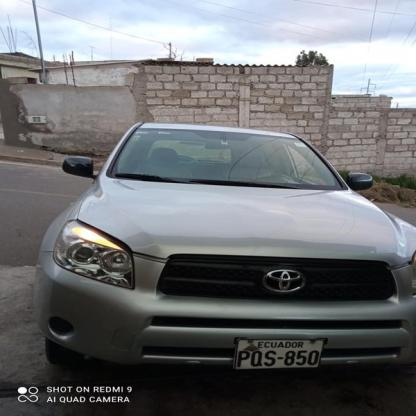Placa: (232, 337, 327, 375)
